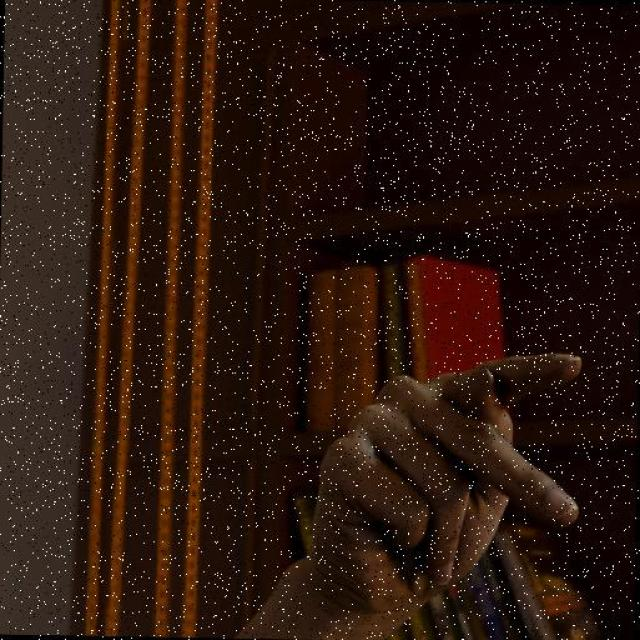P: (311, 345, 586, 611)
